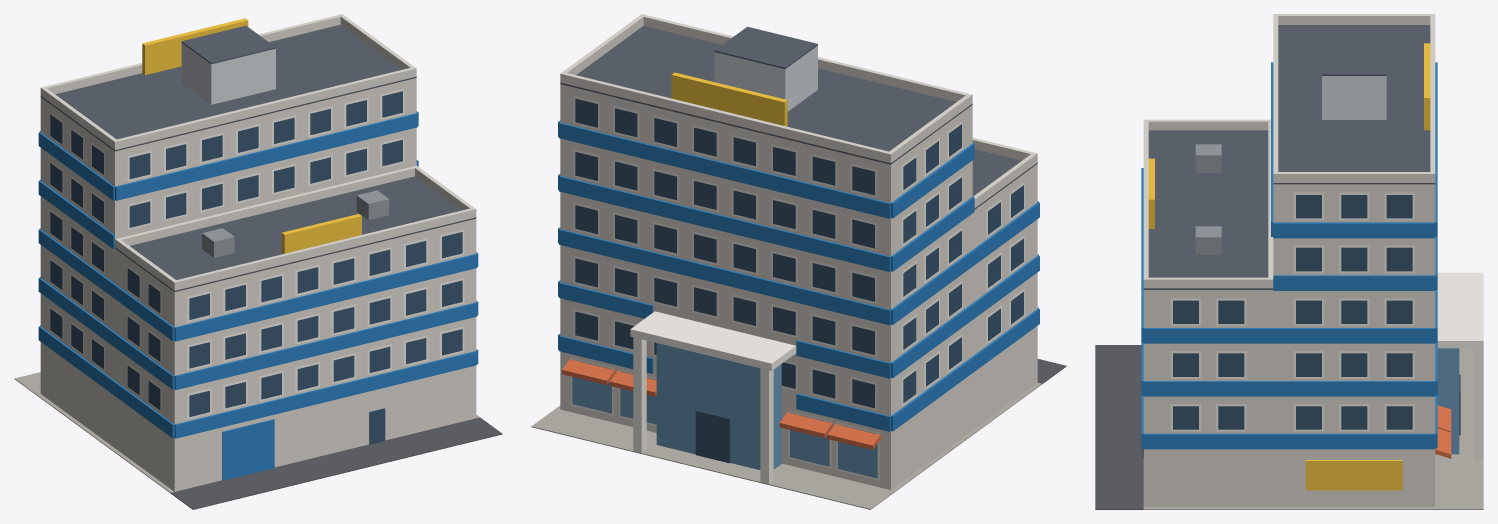
3 views of the same model, side by side, from view 1: azimuth 30°, elevation 25°; view 2: azimuth 150°, elevation 25°; view 3: azimuth 270°, elevation 25° (orthographic). The views are drawn at different scales.
Parts seen in each view (by area): view 1: wall (×2), spandrel (×12), roof (×3), parapet (×8), asphalt, plant_room, sign (×2), garage_door, ac_unit (×2), paving, door; view 2: wall (×2), spandrel (×15), roof (×3), storefront (×5), parapet (×6), paving, canopy, plant_room, sign, column (×2), awning (×3), door; view 3: wall (×2), roof (×3), spandrel (×11), window_glass (×21), parapet (×8), asphalt, paving, sign (×3), canopy, plant_room, storefront, ac_unit (×2) (+1 smaller).
Part boxes in pixels (x1=…): wall (×2): x1=40, y1=78, x2=476, y2=491; spandrel (×12): x1=38, y1=113, x2=477, y2=438; roof (×3): x1=40, y1=24, x2=476, y2=291; parapet (×8): x1=40, y1=14, x2=476, y2=290; asphalt: x1=170, y1=417, x2=502, y2=509; plant_room: x1=181, y1=43, x2=275, y2=104; sign (×2): x1=142, y1=18, x2=361, y2=254; garage_door: x1=222, y1=419, x2=274, y2=480; ac_unit (×2): x1=202, y1=190, x2=389, y2=257; paving: x1=14, y1=372, x2=479, y2=493; door: x1=369, y1=408, x2=385, y2=444; wall (×2): x1=560, y1=84, x2=1037, y2=489; spandrel (×15): x1=559, y1=122, x2=1039, y2=431; roof (×3): x1=560, y1=25, x2=1037, y2=209; storefront (×5): x1=572, y1=343, x2=877, y2=478; parapet (×6): x1=560, y1=14, x2=1037, y2=207; paving: x1=531, y1=382, x2=1041, y2=509; canopy: x1=630, y1=311, x2=796, y2=370; plant_room: x1=714, y1=45, x2=817, y2=111; sign: x1=671, y1=72, x2=787, y2=126; column (×2): x1=633, y1=337, x2=773, y2=484; awning (×3): x1=562, y1=358, x2=880, y2=449; door: x1=695, y1=410, x2=730, y2=463; wall (×2): x1=1143, y1=184, x2=1435, y2=506; roof (×3): x1=1143, y1=25, x2=1435, y2=289; spandrel (×11): x1=1141, y1=62, x2=1437, y2=449; window_glass (×21): x1=1173, y1=195, x2=1412, y2=429; parapet (×8): x1=1143, y1=14, x2=1435, y2=288; asphalt: x1=1095, y1=345, x2=1143, y2=509; paving: x1=1143, y1=348, x2=1483, y2=509; sign (×3): x1=1148, y1=43, x2=1430, y2=490; canopy: x1=1437, y1=272, x2=1483, y2=348; plant_room: x1=1322, y1=76, x2=1386, y2=119; storefront: x1=1435, y1=348, x2=1459, y2=454; ac_unit (×2): x1=1195, y1=144, x2=1221, y2=254.
Bounding box in the file's own units: 24 × 25.26 × 24.
